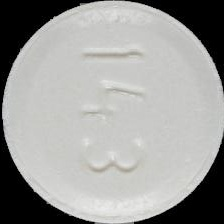63187-458: (0, 0, 224, 224)
